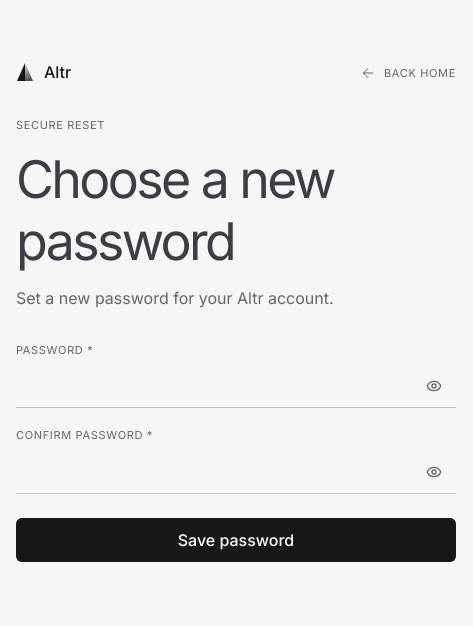
Test case: ResetPasswordForm › shows a generic (non-enumerating) error for any other reset failure
Expected: the heading "Choose a new password" is shown, [16,148,334,273]
Type "realpassword1" into the password field labelled "Password *".
click(236, 386); type("realpassword1")  # box [16,364,456,408]
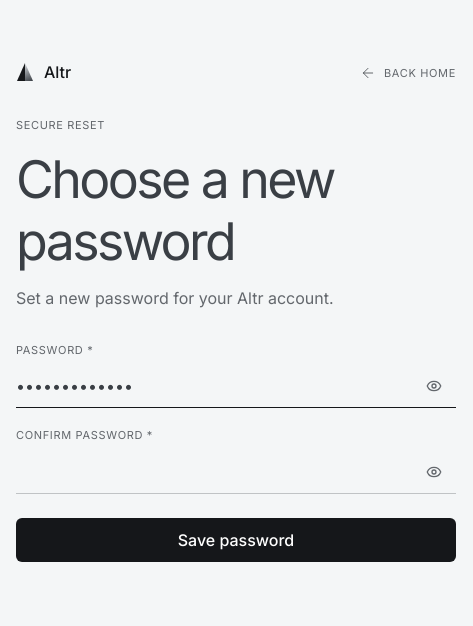
Type "realpassword1" into the password field labelled "Confirm password *".
click(236, 472); type("realpassword1")  # box [16,450,456,494]
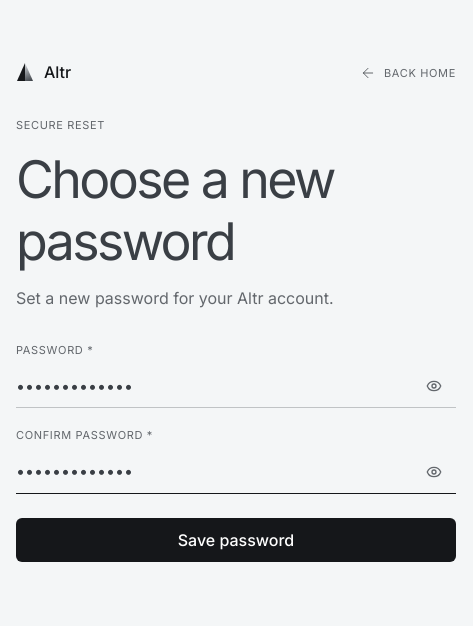
Click the button "Save password".
click(236, 540)  # box [16,518,456,562]
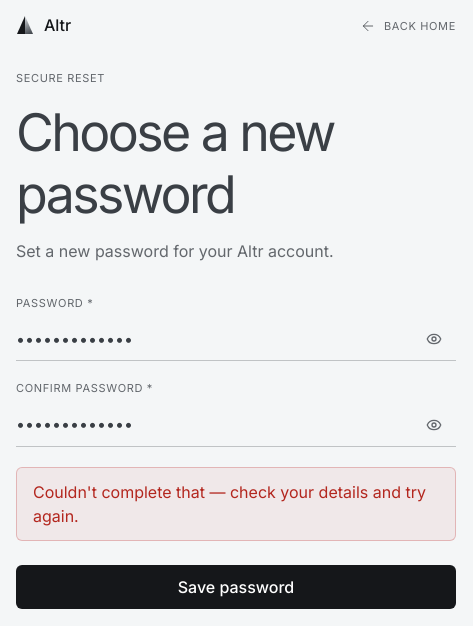
Result: the message shows "Couldn't complete that" at [33,482,426,526]
